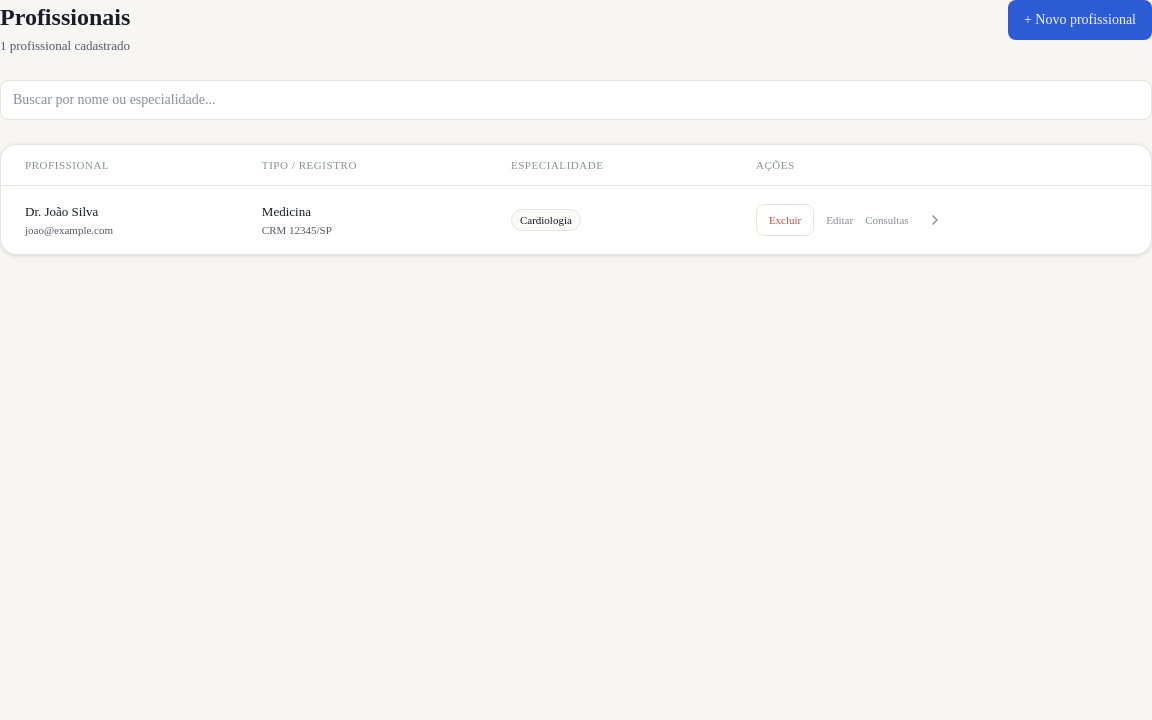
Test case: ProfessionalList (integration) › opens delete dialog when delete button is clicked
The width and height of the screenshot is (1152, 720).
Expected: the table with test id "professional-list-table" is shown, [1,145,1151,254]
Click the button with test id "professional-delete-button-uuid-1" at (785,220), box [756,204,814,236]
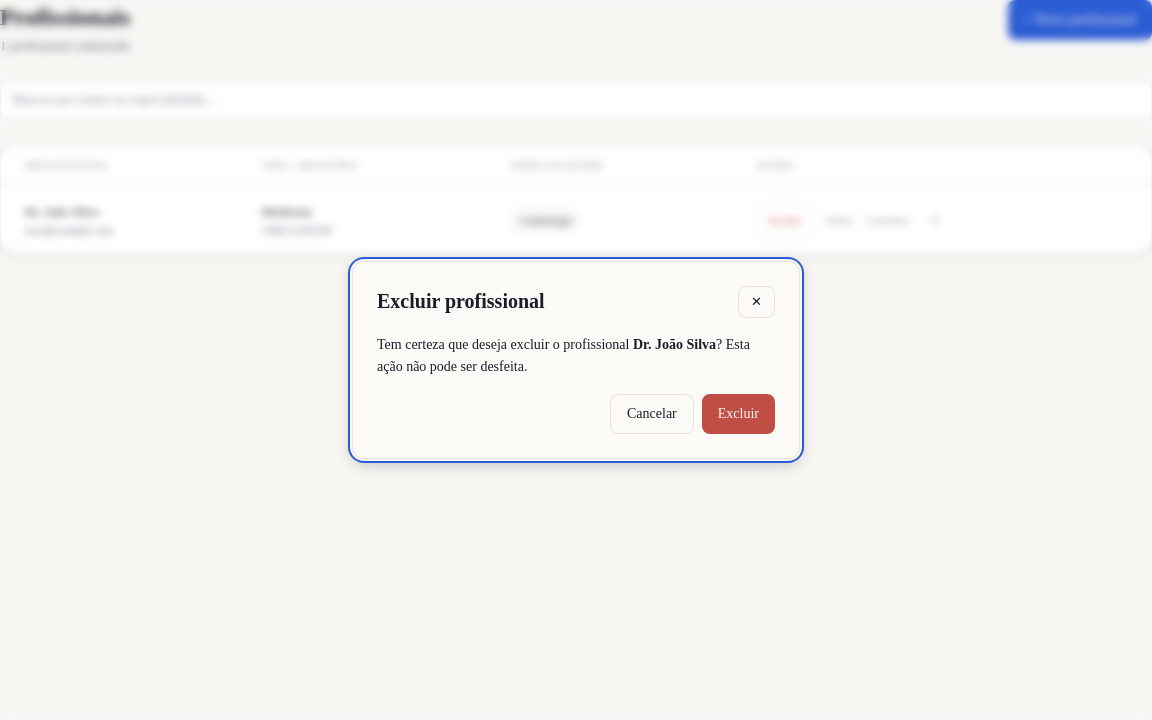
Result: the button with test id "delete-professional-dialog-confirm" is shown at [702,394,775,434]
